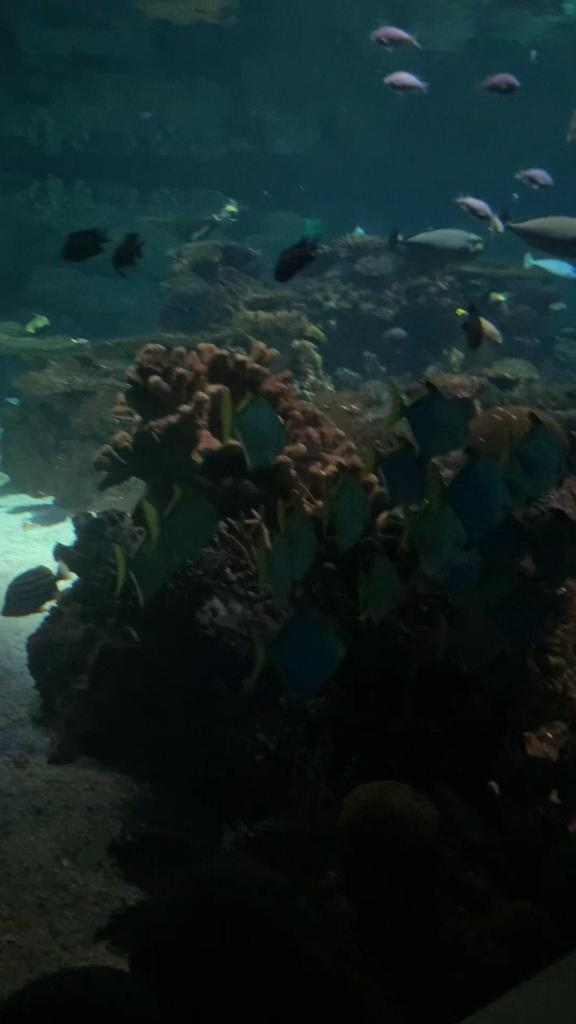fish: (238, 597, 352, 711), (427, 438, 521, 552), (379, 372, 473, 472), (163, 212, 263, 300), (492, 409, 574, 507), (140, 476, 224, 570), (394, 494, 474, 590), (214, 382, 292, 478), (492, 564, 564, 660), (439, 534, 521, 618), (108, 527, 186, 613), (434, 595, 516, 675), (310, 462, 374, 556), (363, 428, 433, 512), (1, 552, 67, 634), (385, 221, 490, 271), (522, 504, 574, 596), (57, 218, 138, 276), (356, 545, 410, 629), (276, 494, 320, 596), (253, 514, 294, 618), (189, 233, 261, 291), (494, 212, 574, 264), (275, 224, 335, 288), (448, 192, 512, 234), (380, 60, 434, 104), (454, 305, 506, 347), (364, 24, 424, 60), (109, 228, 149, 278), (520, 250, 574, 282), (473, 68, 525, 100), (514, 158, 556, 196), (460, 300, 480, 354), (210, 201, 242, 227), (137, 110, 153, 122), (296, 184, 308, 194), (260, 188, 270, 198)
